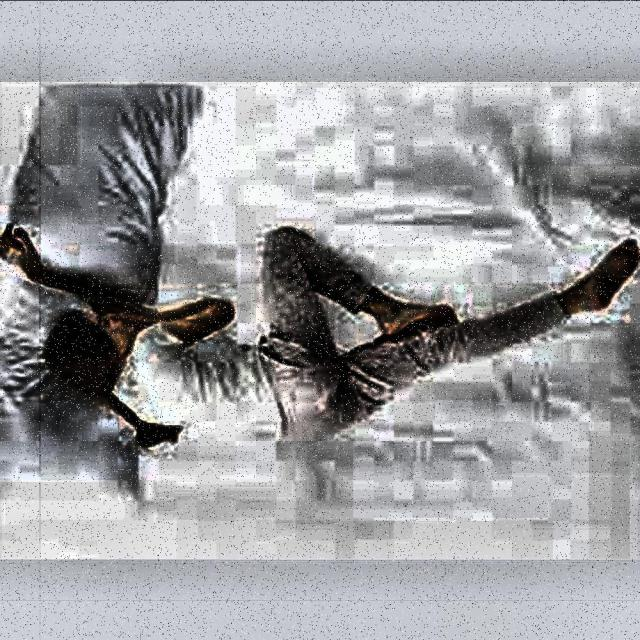Not_Supine: (0, 224, 640, 469)
